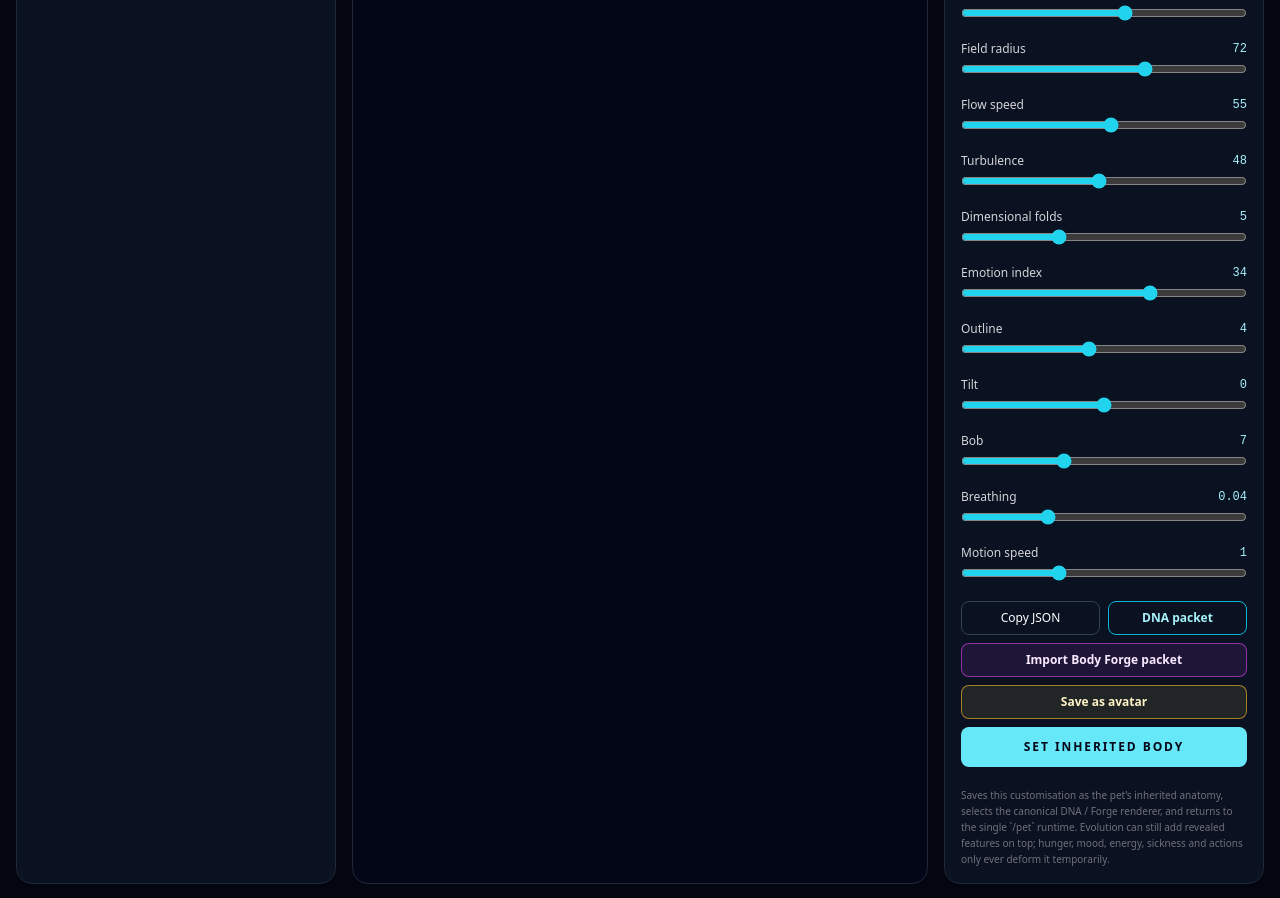
it: Body Forge identity avatar export › rejects an invalid export without changing the identity profile
(page scrolled)
Step 1. Click the button "Save as avatar" → coordinates (1104, 702), box [961,684,1247,718]
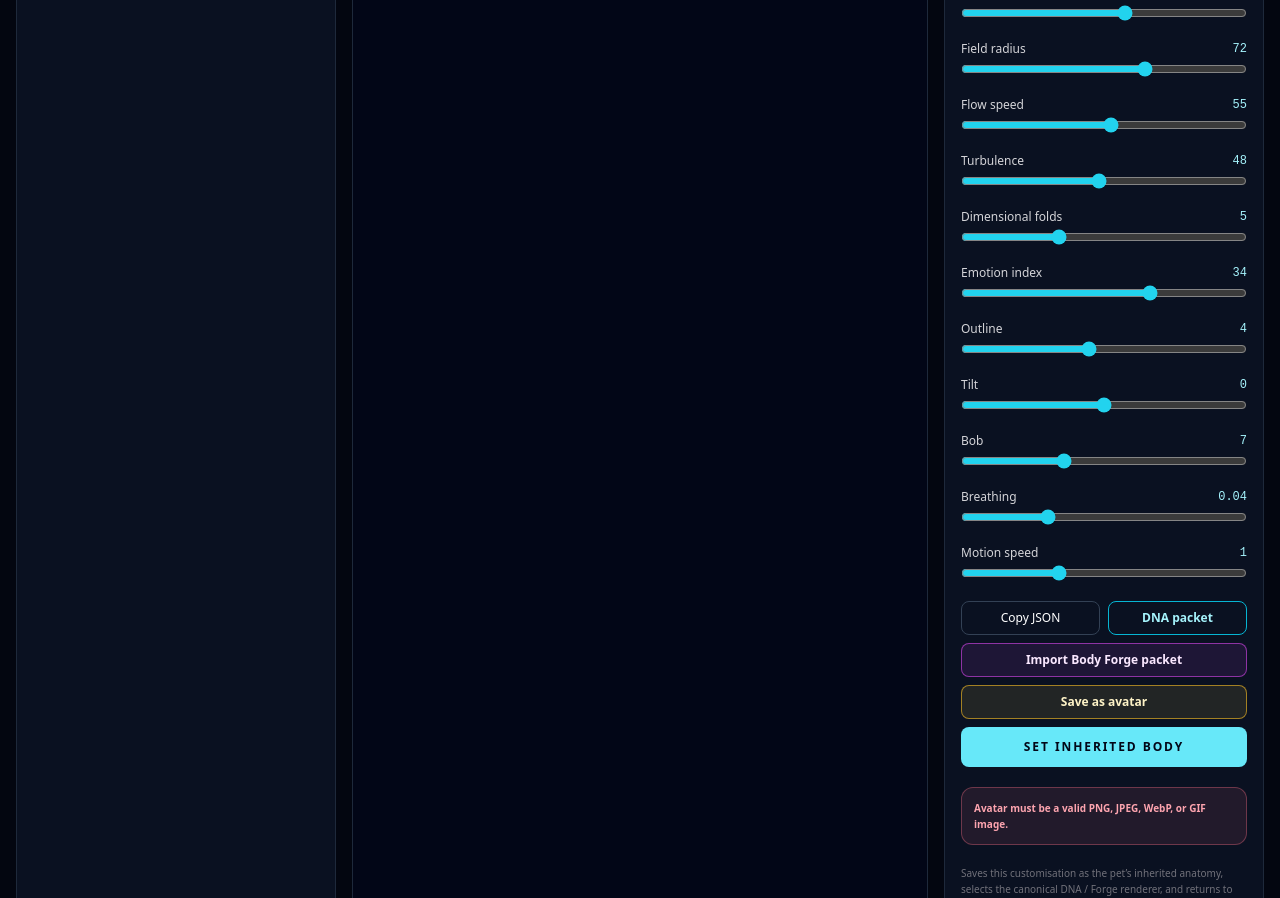
Now the text "Avatar must be a valid PNG, JPEG, WebP, or GIF image." is shown, box [974,800,1206,830]
